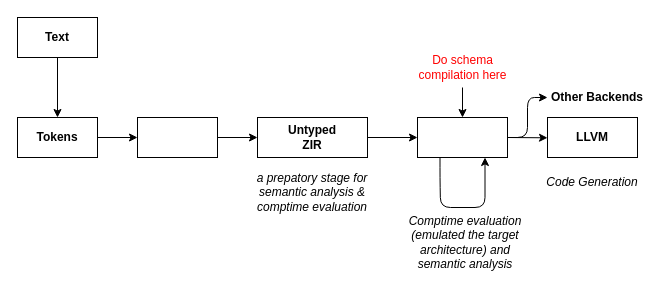
Image size: 670x289. Some labels were removed from this diagram. The centre of each missing label's shape, as x and y in pixels:
"AIR" belongs at (x=462, y=137).
"AST" belongs at (x=177, y=137).
